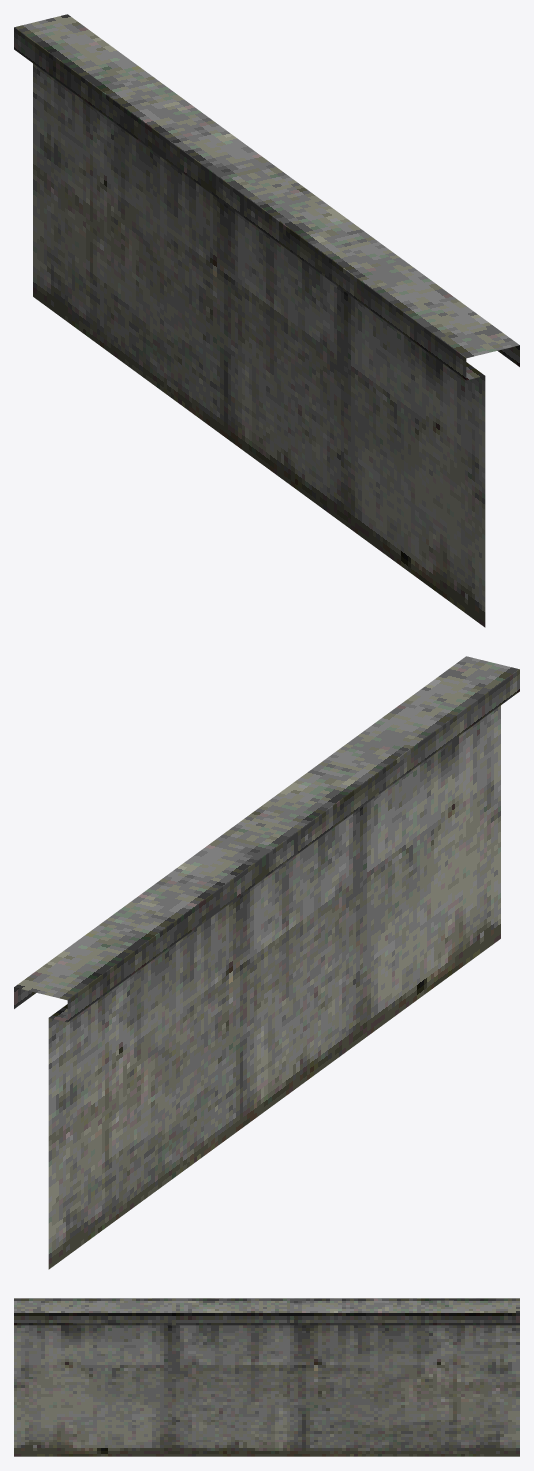
The model's file is concrete_miniwall_short.glb.
3 renders of one model, top to bottom at view 1: azimuth 30°, elevation 25°; view 2: azimuth 150°, elevation 25°; view 3: azimuth 270°, elevation 25°, orthographic. The views are drawn at different scales.
Parts seen in each view (by area): view 1: Concrete_miniwall_short; view 2: Concrete_miniwall_short; view 3: Concrete_miniwall_short.
Boxes of the visible parts, left/top/right/bottom form: Concrete_miniwall_short: left=14, top=14, right=519, bottom=627; Concrete_miniwall_short: left=14, top=656, right=519, bottom=1269; Concrete_miniwall_short: left=14, top=1298, right=519, bottom=1456.
Size of the model in its own units: 0.3428 by 1.67 by 5.
1 material, 1 textured.
